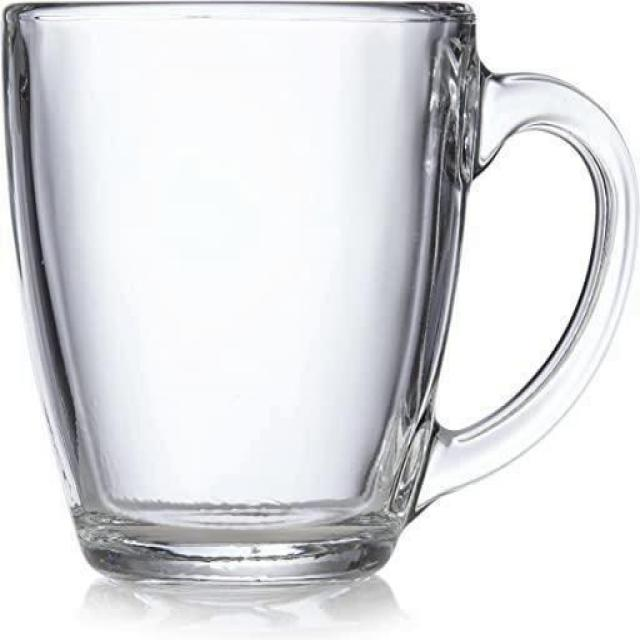glass-mug: (0, 0, 639, 598)
